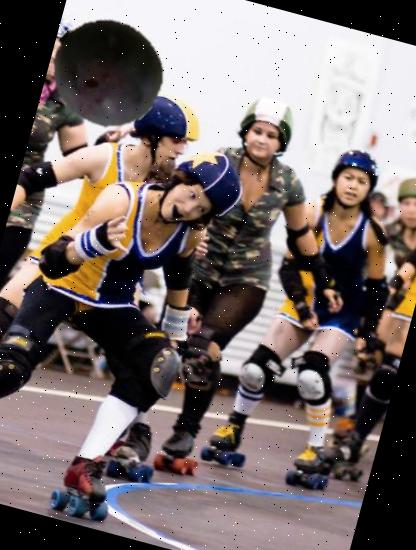Plum: (37, 3, 177, 143)
